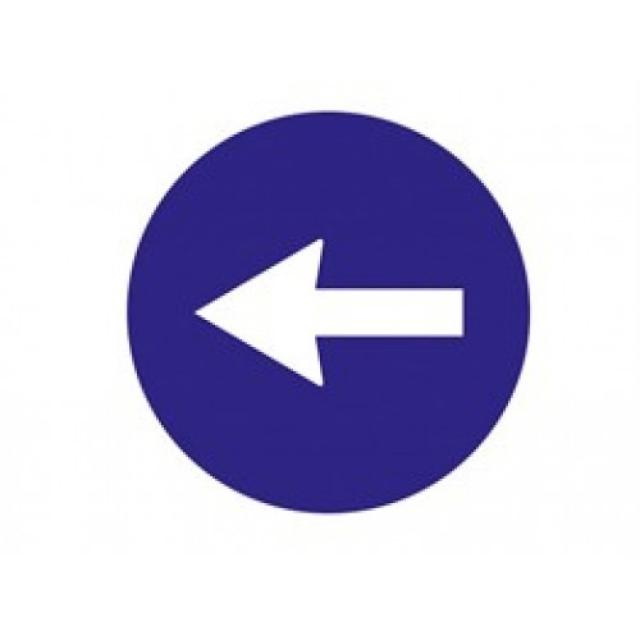SensObligatoire: (123, 110, 534, 520)
